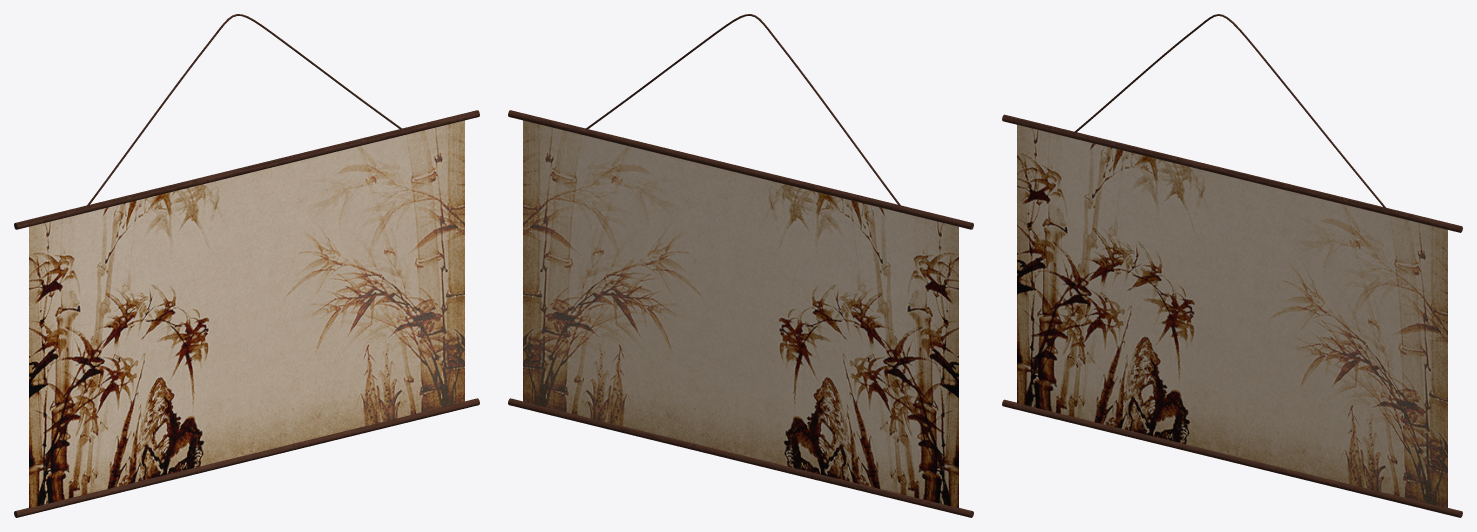
Rendered from ART_05.FBX.
3 views of the same model, side by side, from view 1: azimuth 30°, elevation 25°; view 2: azimuth 150°, elevation 25°; view 3: azimuth 330°, elevation 25° (orthographic).
Visible parts, largest first — view 1: ART_05; view 2: ART_05; view 3: ART_05.
Boxes of the visible parts, x1,y1,x2,y2 form: ART_05: [14, 14, 479, 517]; ART_05: [508, 14, 973, 517]; ART_05: [1002, 14, 1462, 517].
Bounding box in the file's own units: 95.32 × 88.58 × 1.25.
